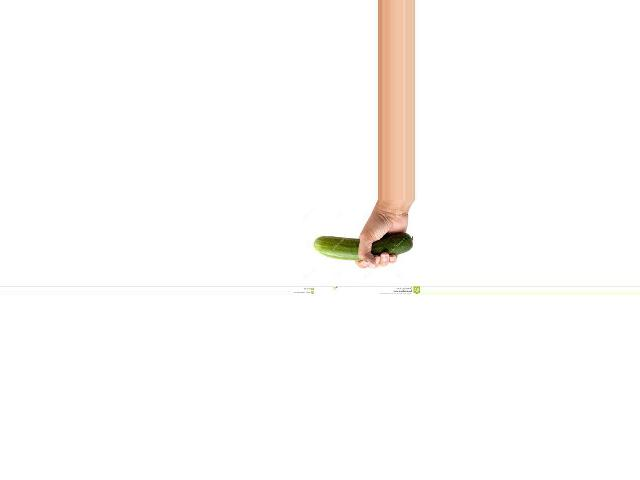cucumber: (313, 233, 411, 261)
